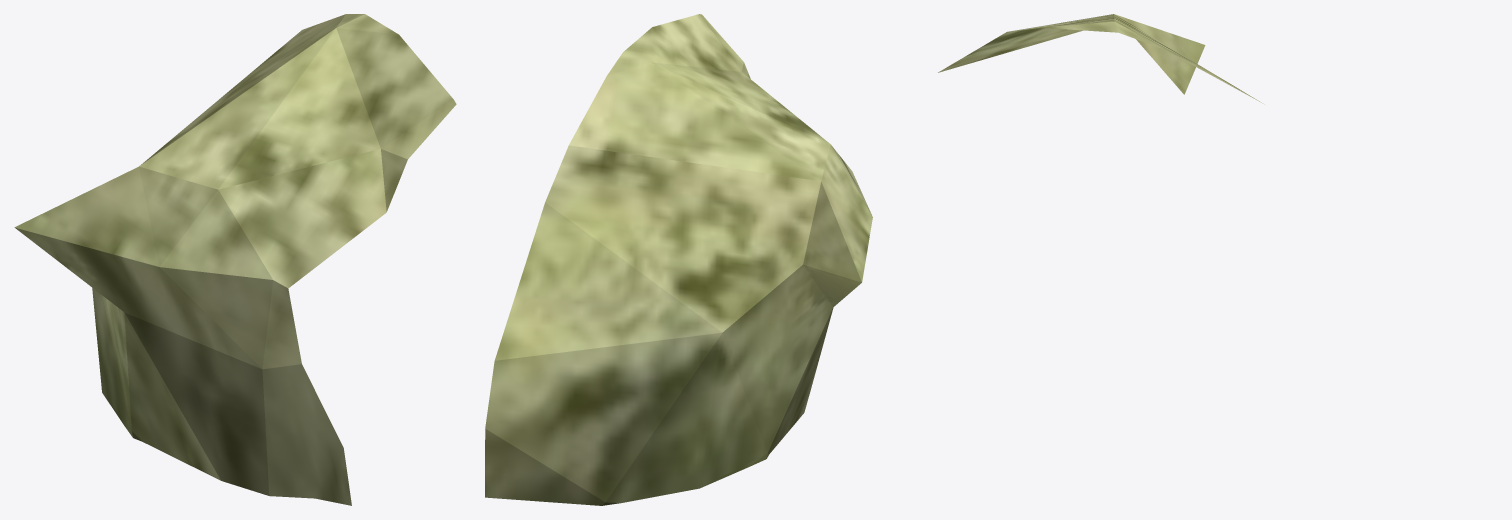
3 views of the same model, side by side, from view 1: azimuth 30°, elevation 25°; view 2: azimuth 150°, elevation 25°; view 3: azimuth 270°, elevation 25° (orthographic). The views are drawn at different scales.
Size of the model in its own units: 0.6753 by 0.8294 by 0.9372.
1 material, 1 textured.
